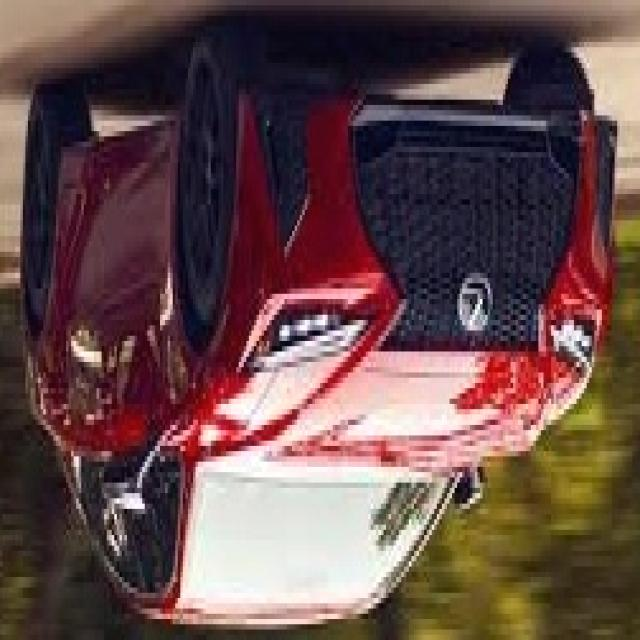red: (0, 68, 607, 635)
